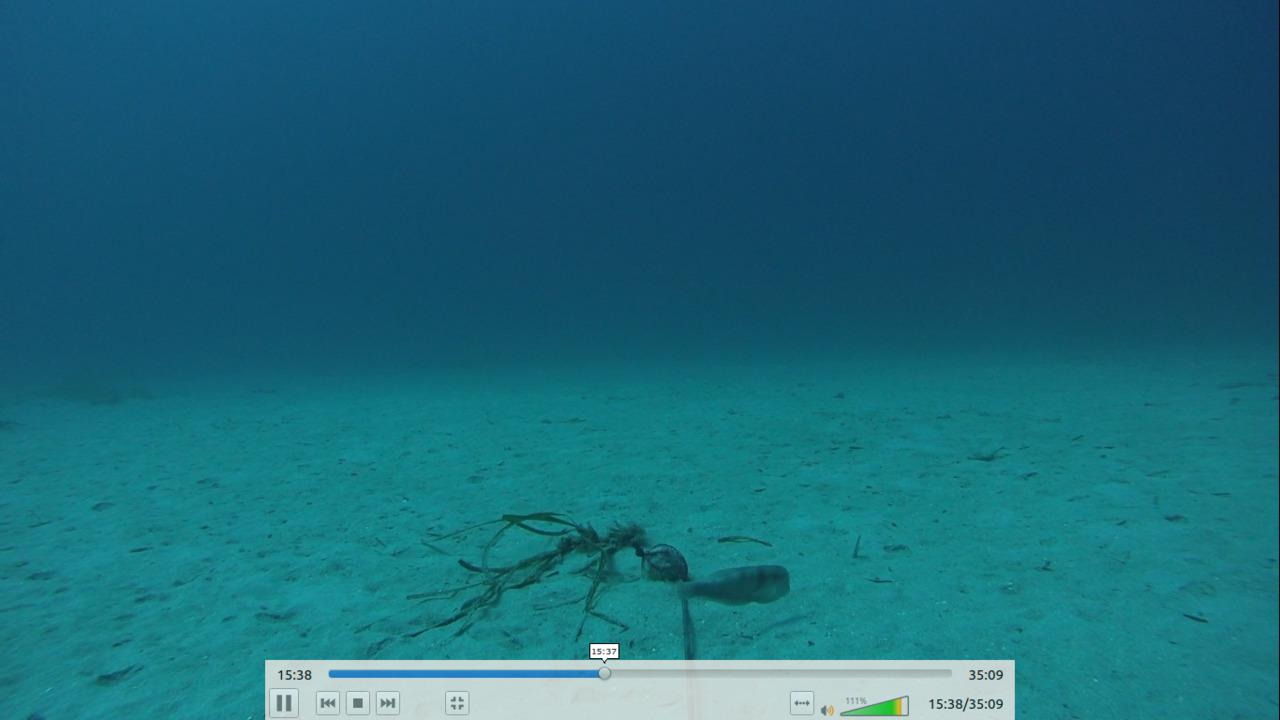raor: (678, 560, 794, 608)
